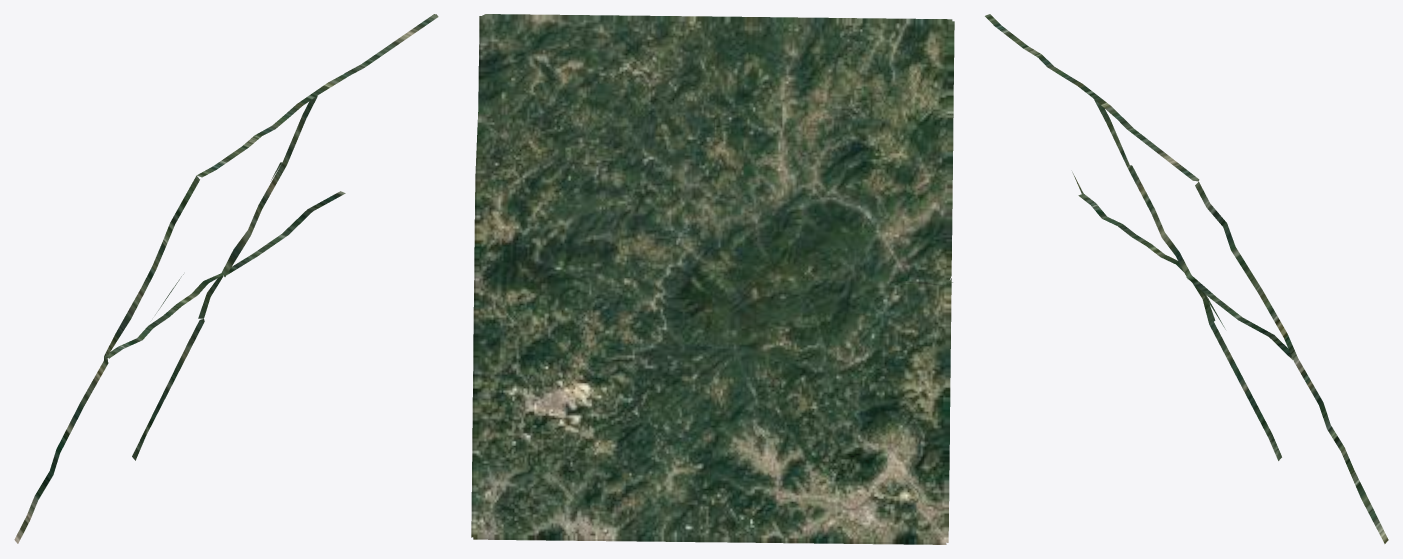
3 views of the same model, side by side, from view 1: azimuth 30°, elevation 25°; view 2: azimuth 150°, elevation 25°; view 3: azimuth 270°, elevation 25° (orthographic). The views are drawn at different scales.
Size of the model in its own units: 78964 by 71628 by 64285.
1 material, 1 textured.
